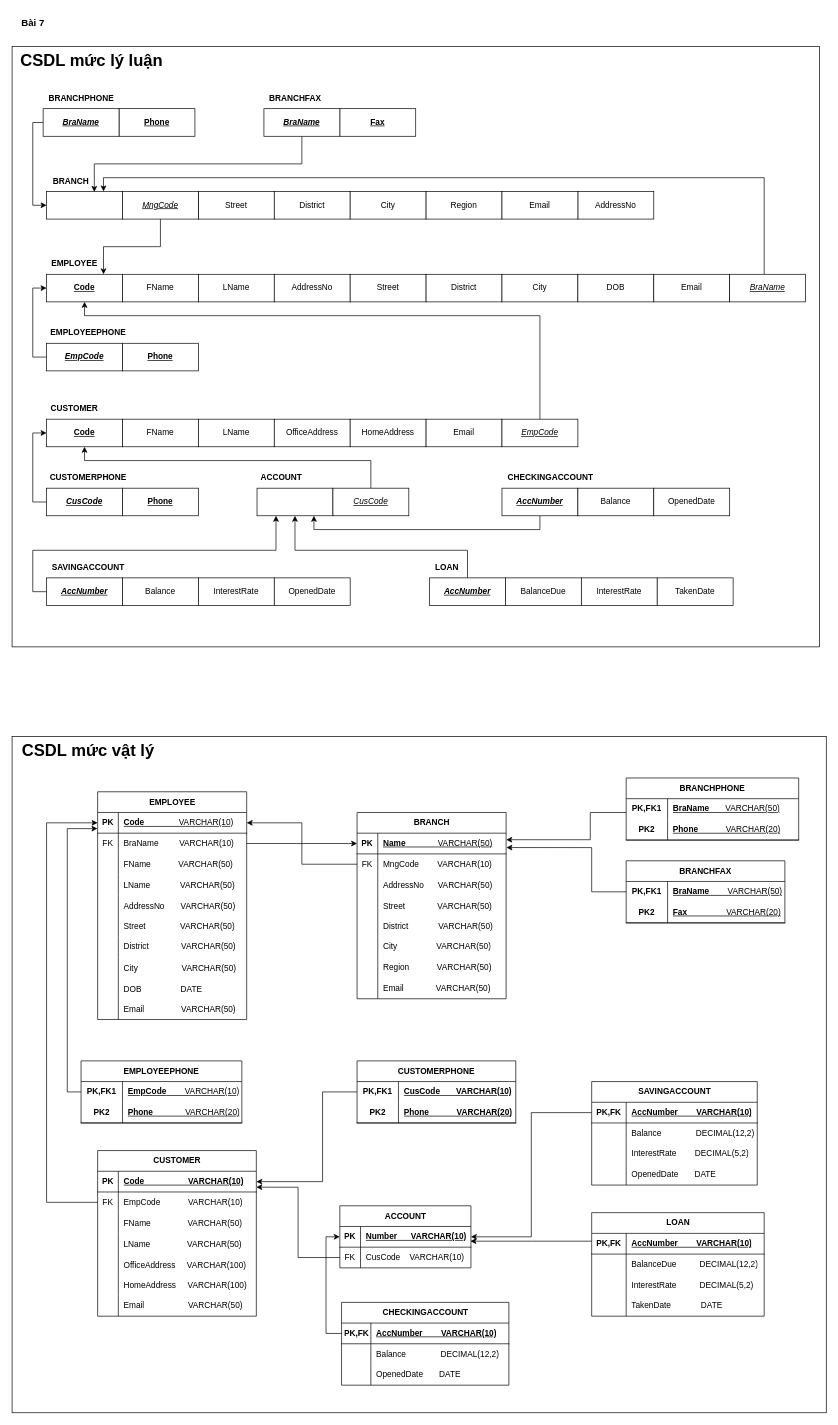
Image size: 838x1425. Some labels were removed from this diagram. The shapes that lost their labels are listed below. From the top down, each one's centre as x and y in pixels, then its label:
At [84,205]: "Name".
At [294,501]: "Number".
